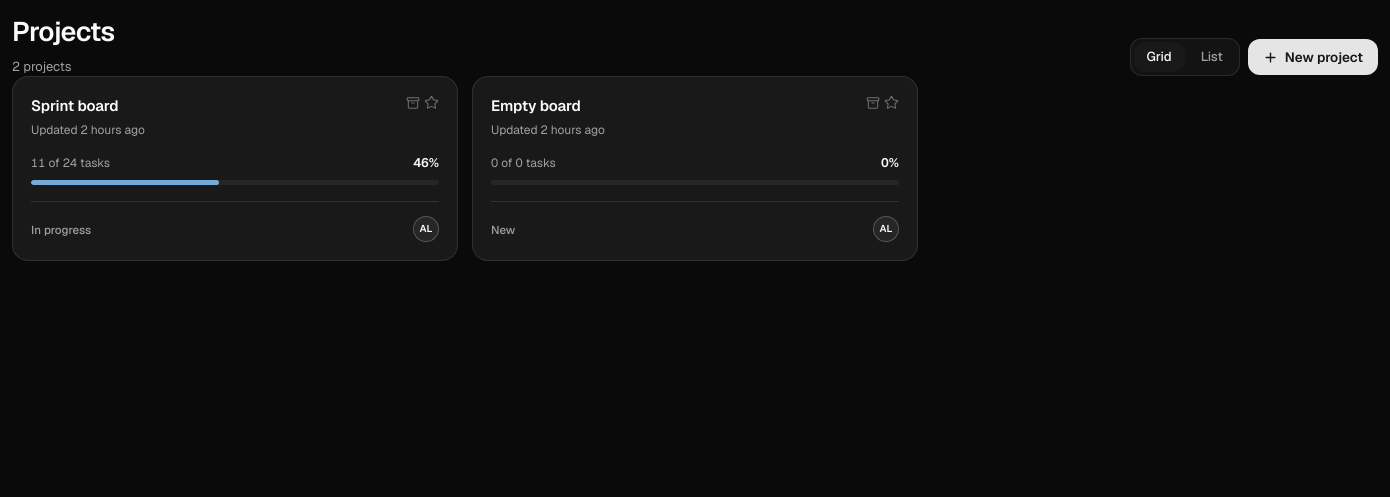
Scenario: ProjectsView › stops the persist loop on error and reconciles to server truth
Click the button named "Star project" in the row of "Sprint board" at (432, 102), box [424,95,439,110]
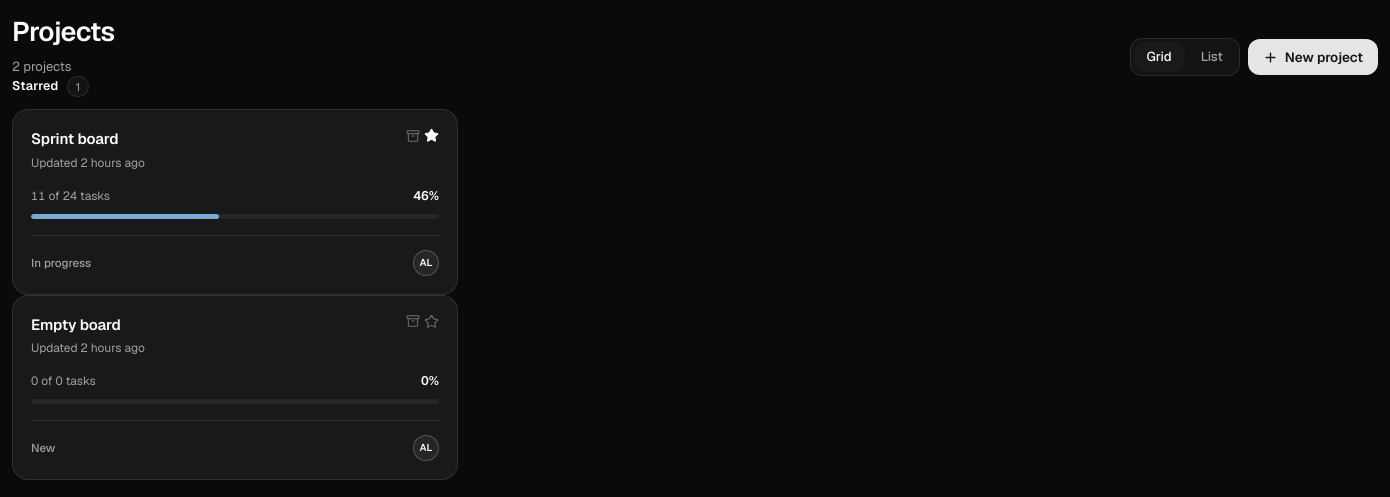
Now the heading "Starred" is shown, box [12,77,59,96]
Click the button named "Unstar project" at (432, 136), box [424,128,439,143]
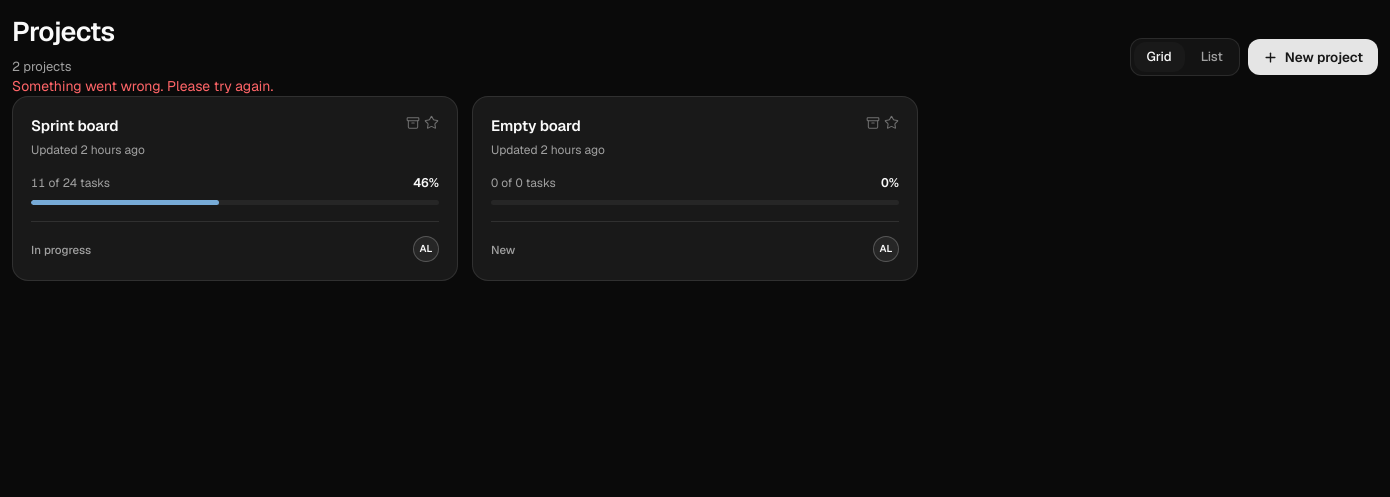
Now the message reads "Something went wrong. Please try again.", box [12,77,273,95]
Now the heading "Starred" is gone
